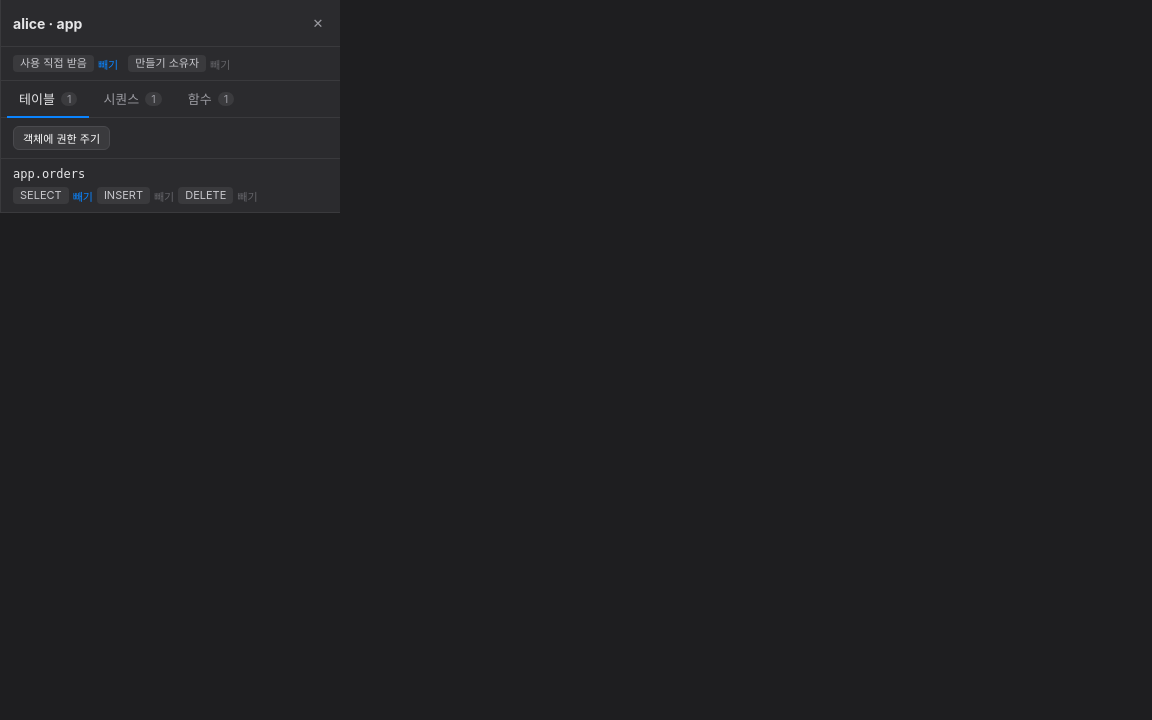
객체에 권한 주기 › 취소 queues nothing
This screenshot has width=1152, height=720.
expect the text "app.orders" is shown: met, box [13,167,85,181]
Click the button "객체에 권한 주기". click: (62, 138)
box: [13,126,110,150]
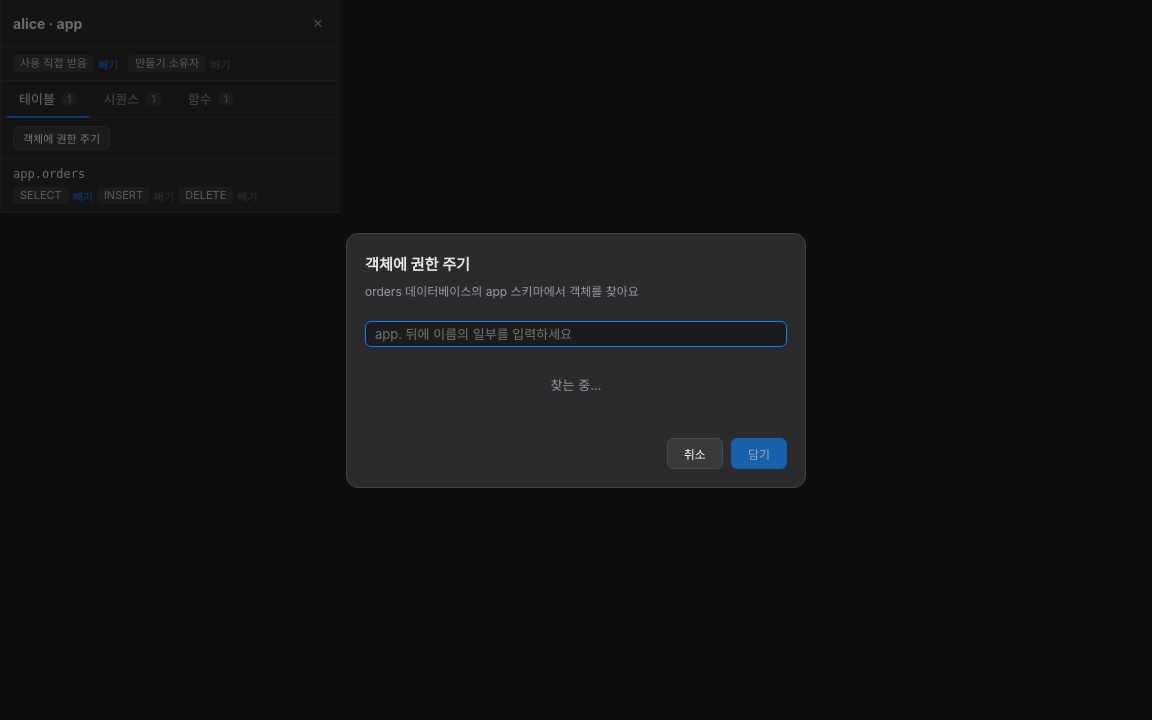
Click the button "취소". click: (695, 453)
box: [667,438,723,468]
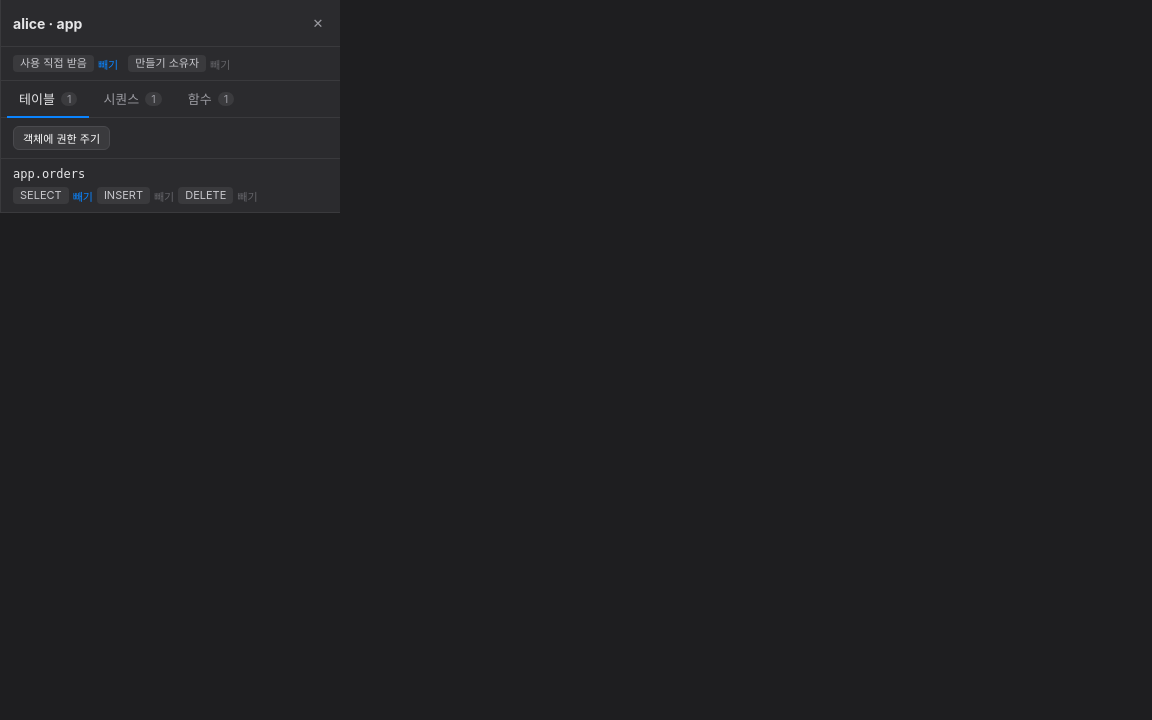
expect the dialog is gone: met
